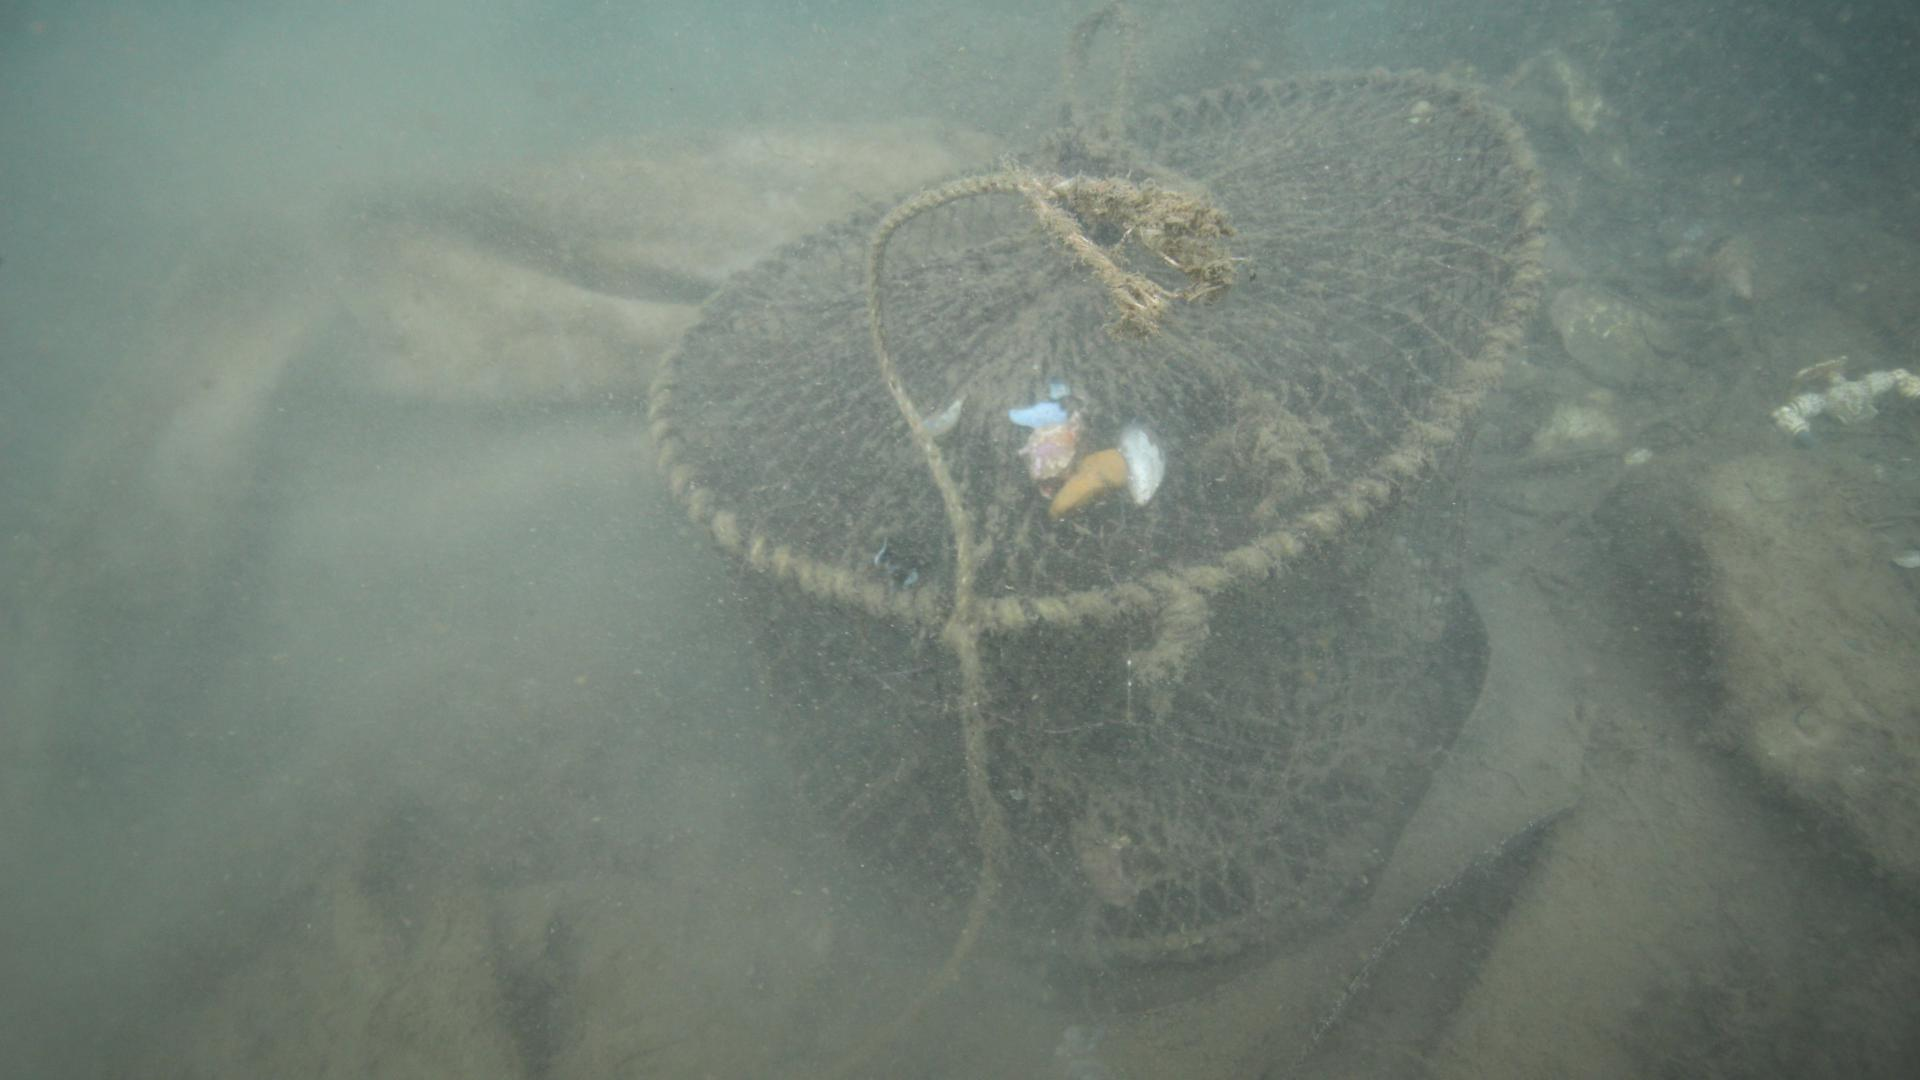circular fish trap: (646, 65, 1549, 960)
rope: (832, 167, 1019, 1080)
